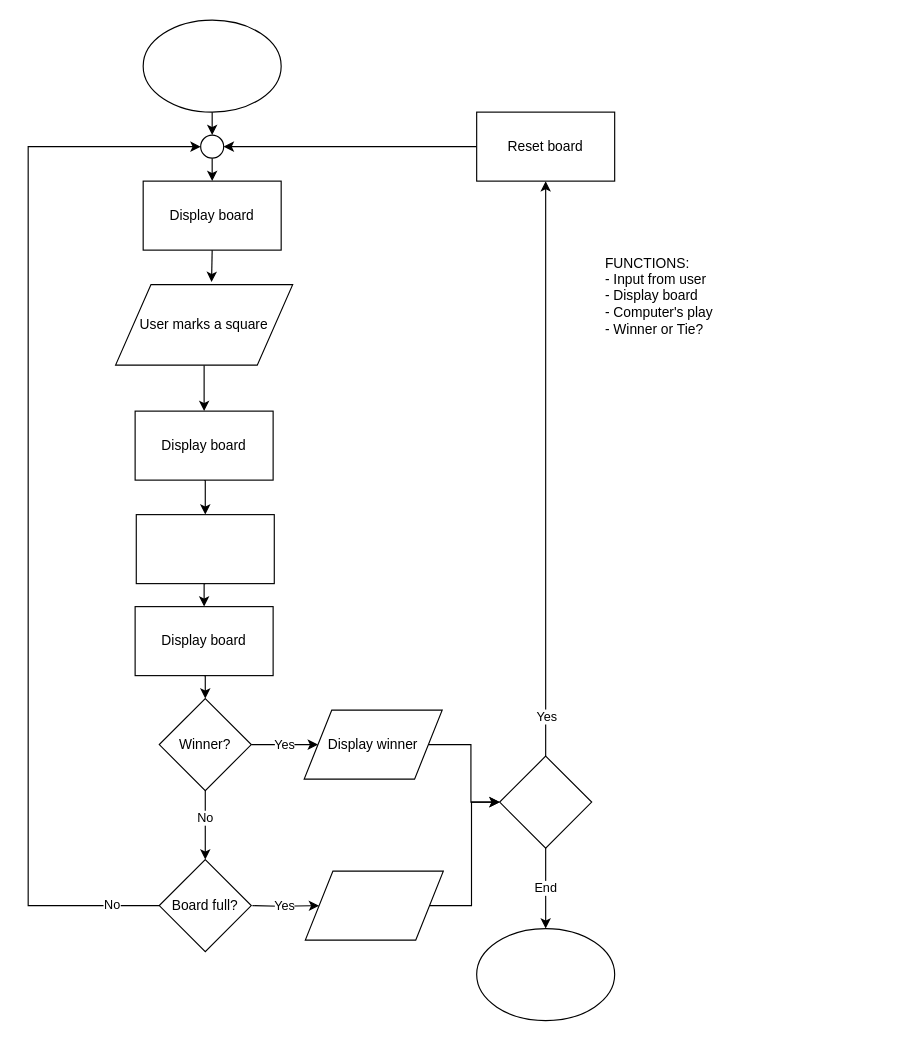
Some shapes in this 899 by 1041 pixel diagram are drawn without their labels. The shapes that lost their labels are listed below. From the top down, each one's centre as x and y in pixels, then its label:
At [211,65]: "Start".
At [204,548]: "Computer marks a square".
At [545,801]: "Play again?".
At [373,905]: "Display tie".
